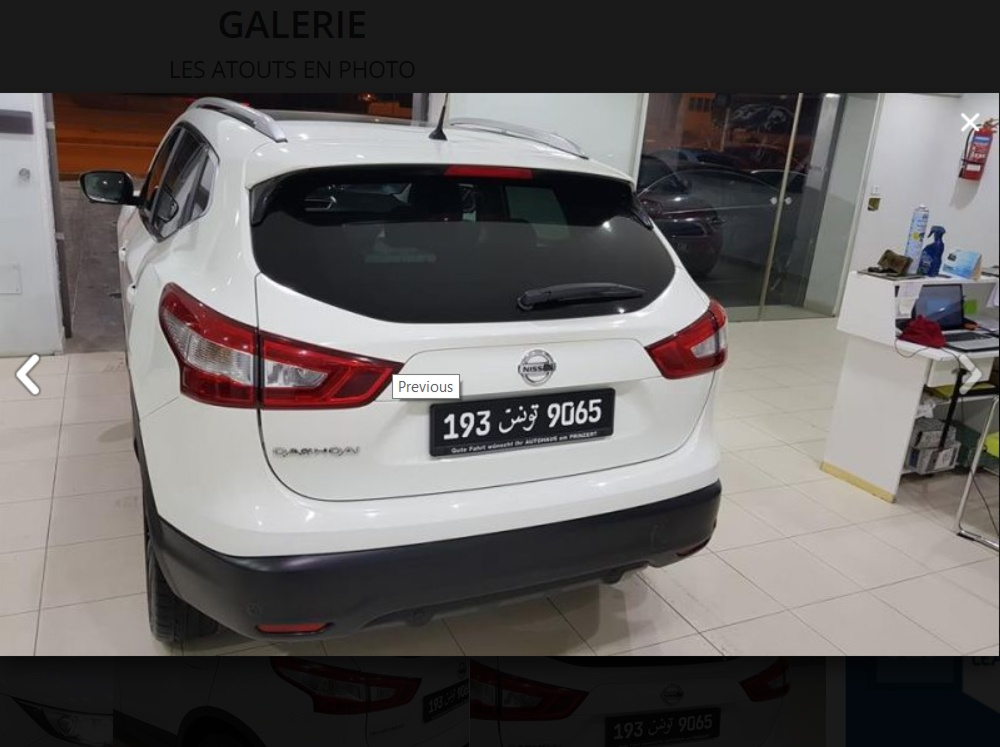LP: (431, 387, 615, 453)
